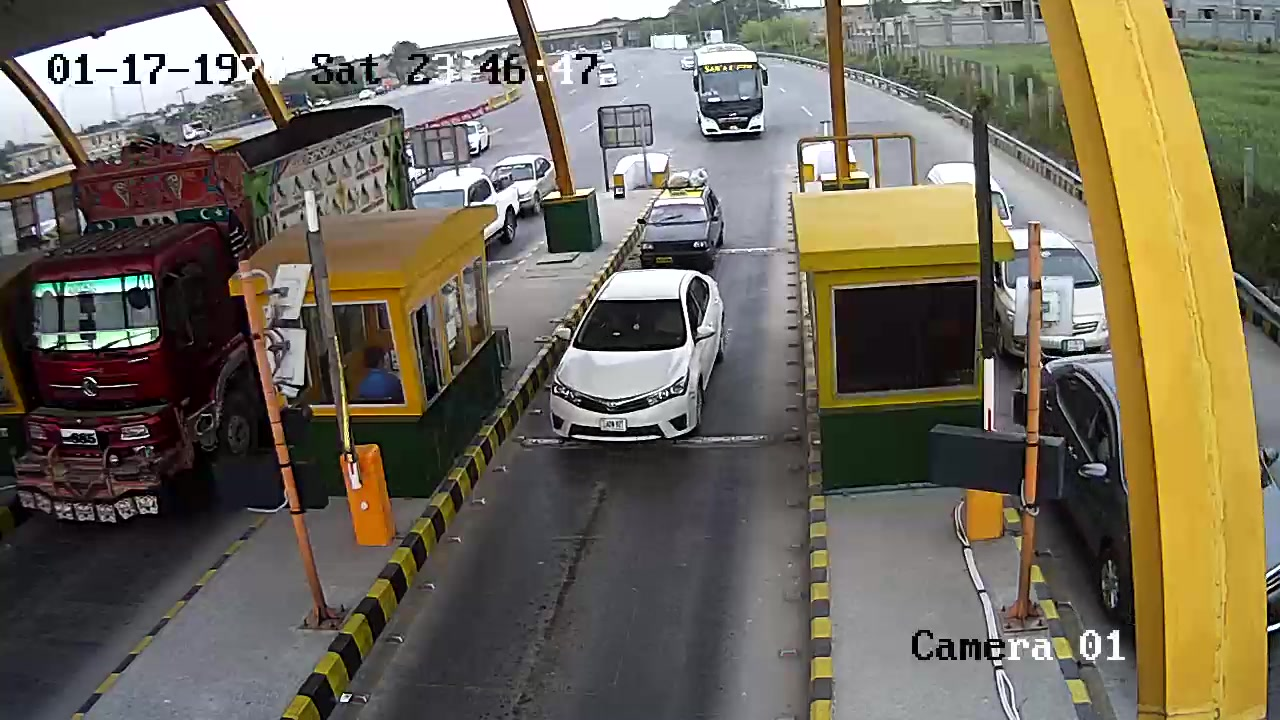F1: (544, 268, 732, 455)
